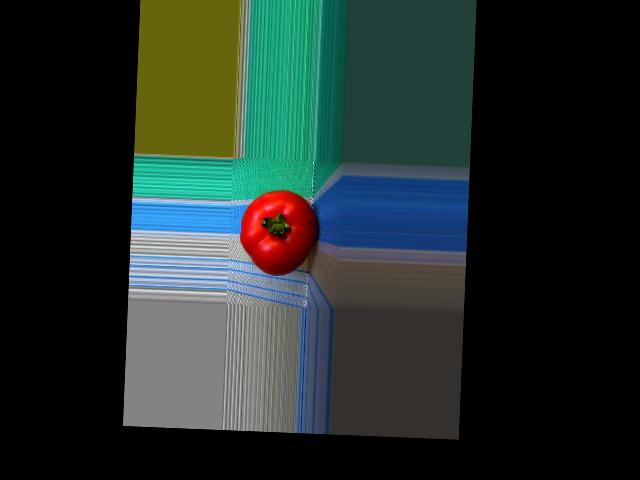tomato: (238, 188, 319, 276)
